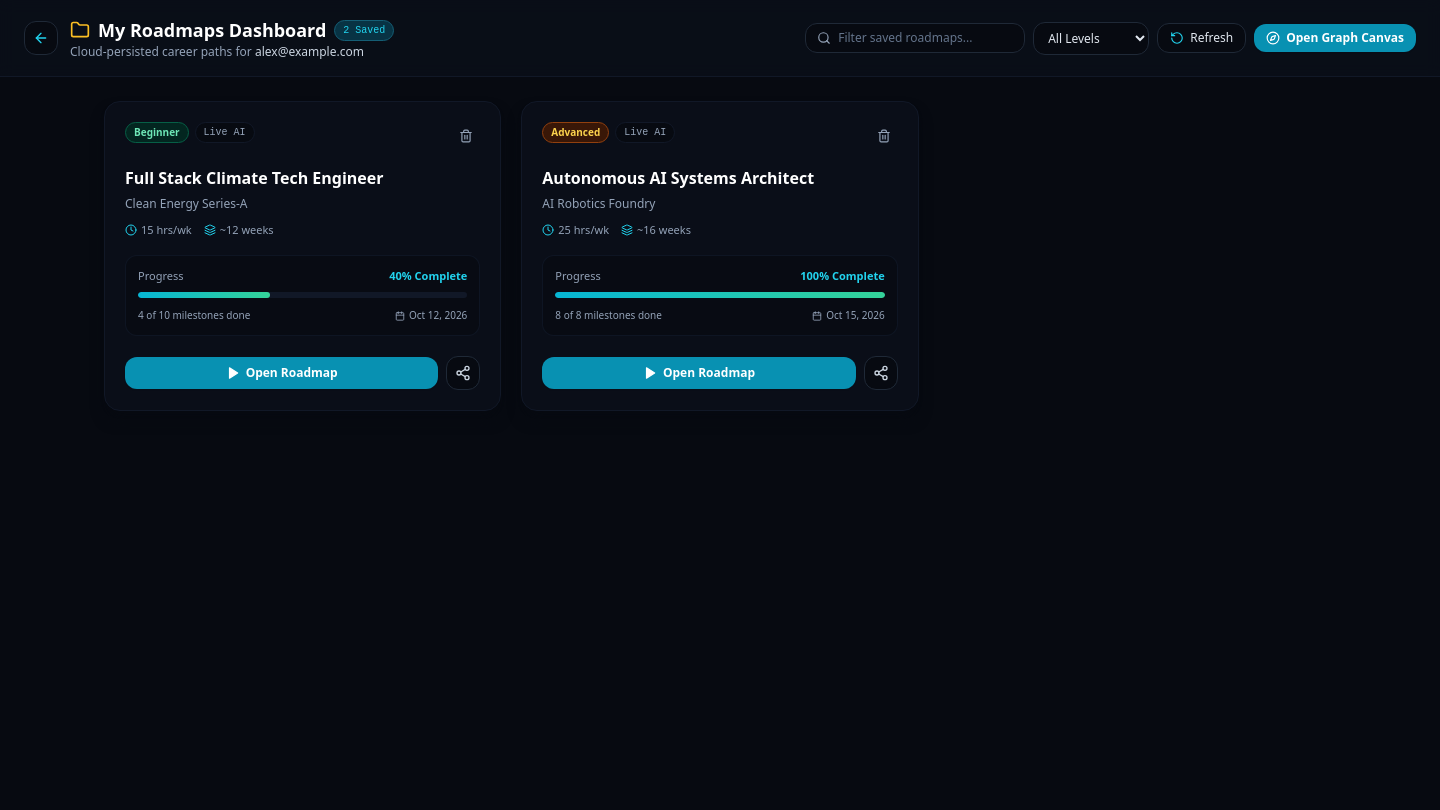
Test: Phase 10 — My Roadmaps Dashboard Tests › clicking delete opens confirmation modal with roadmap title and warning
This screenshot has width=1440, height=810.
Click the button named "Delete Full Stack Climate Tech Engineer" at {"x": 466, "y": 136}, box [452,122,480,150]
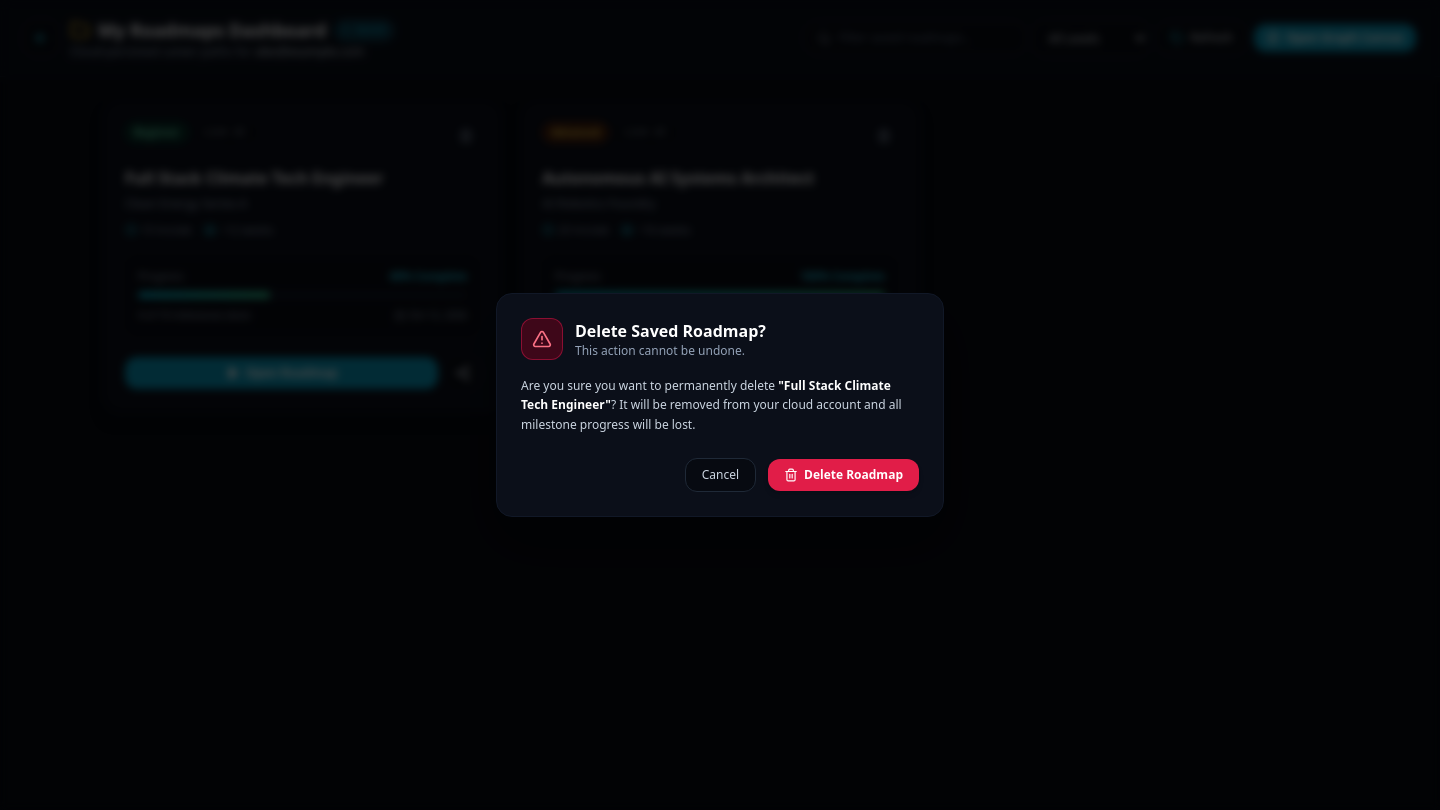
Check: the heading "Delete Saved Roadmap?" is shown, box [575,319,766,343]
Check: the text "Are you sure you want to permanently delete" is shown, box [521,377,775,394]
Check: the text "\"Full Stack Climate Tech Engineer\"" is shown, box [521,377,891,413]
